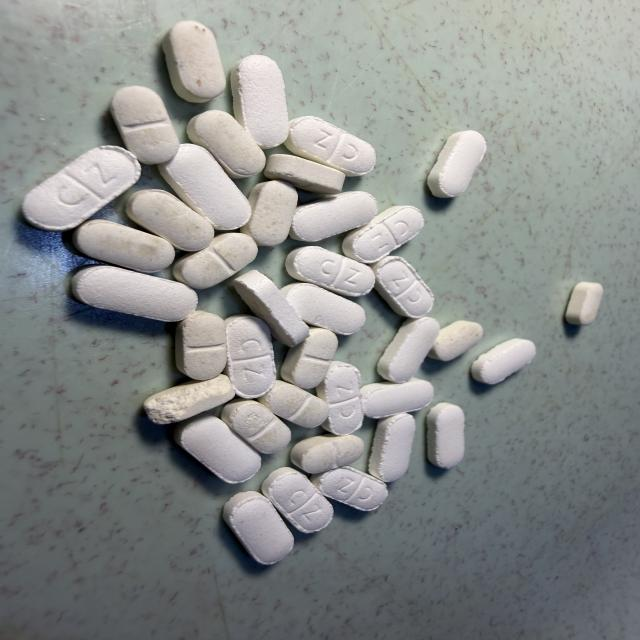pill: (23, 146, 140, 231), (159, 144, 250, 230), (72, 266, 197, 322), (174, 415, 261, 483), (232, 270, 309, 346), (285, 116, 376, 176), (187, 110, 266, 178), (126, 190, 214, 251), (111, 86, 179, 164), (73, 220, 175, 272), (231, 55, 288, 148), (223, 491, 293, 564), (163, 21, 225, 102), (173, 233, 257, 288), (262, 468, 333, 533), (343, 206, 423, 263), (144, 374, 234, 424), (286, 247, 375, 296), (290, 192, 377, 242), (281, 283, 365, 334), (225, 315, 275, 398), (377, 317, 439, 382), (428, 131, 486, 197), (373, 256, 434, 318), (221, 400, 291, 453), (241, 181, 297, 246), (317, 361, 364, 435), (176, 311, 226, 380), (281, 328, 338, 388), (311, 467, 387, 511), (258, 381, 328, 428), (265, 154, 345, 194), (369, 413, 415, 482), (471, 339, 536, 384), (361, 378, 433, 418), (291, 435, 364, 473), (427, 403, 464, 468), (429, 321, 483, 361), (566, 282, 603, 325)
